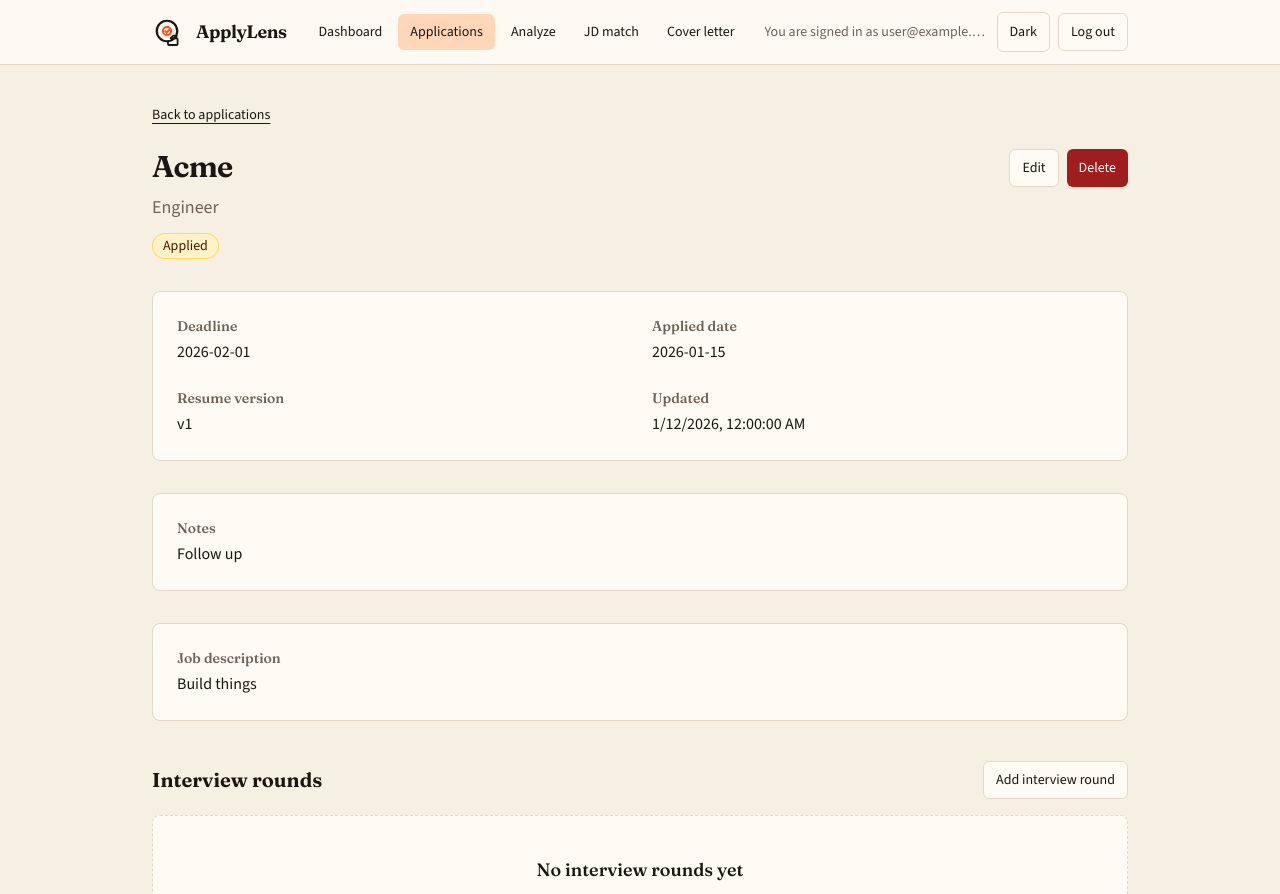
Test case: application create, edit, detail, and delete › deletes an application after confirmation and returns to the list
The image size is (1280, 894).
Expected: the heading "Acme" is shown, top-left (152, 149), bottom-right (232, 185)
Step 1. Click the button "Delete" → [1097, 168], box top-left (1067, 149), bottom-right (1128, 187)
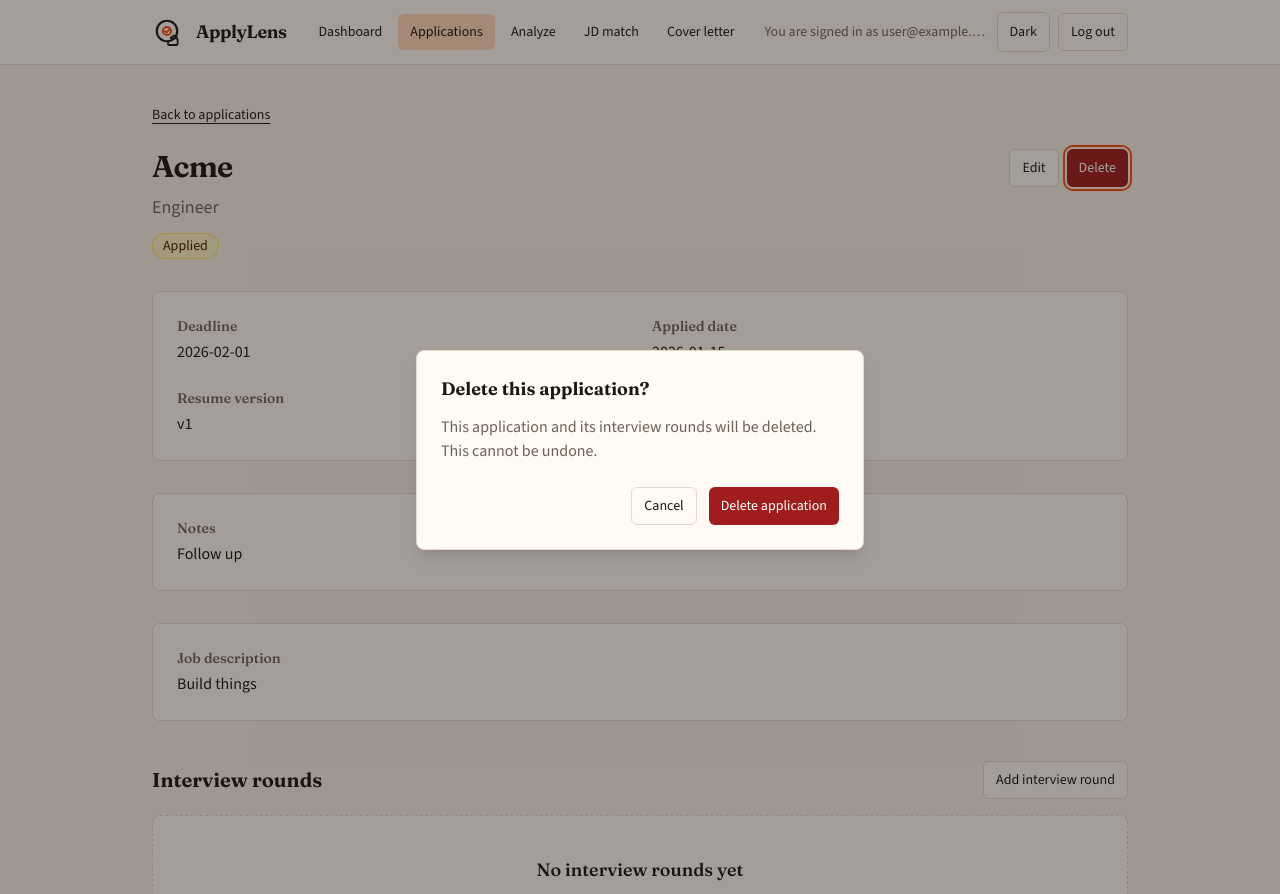
Step 2. Click the button "Delete application" → [774, 506], box top-left (709, 487), bottom-right (839, 525)
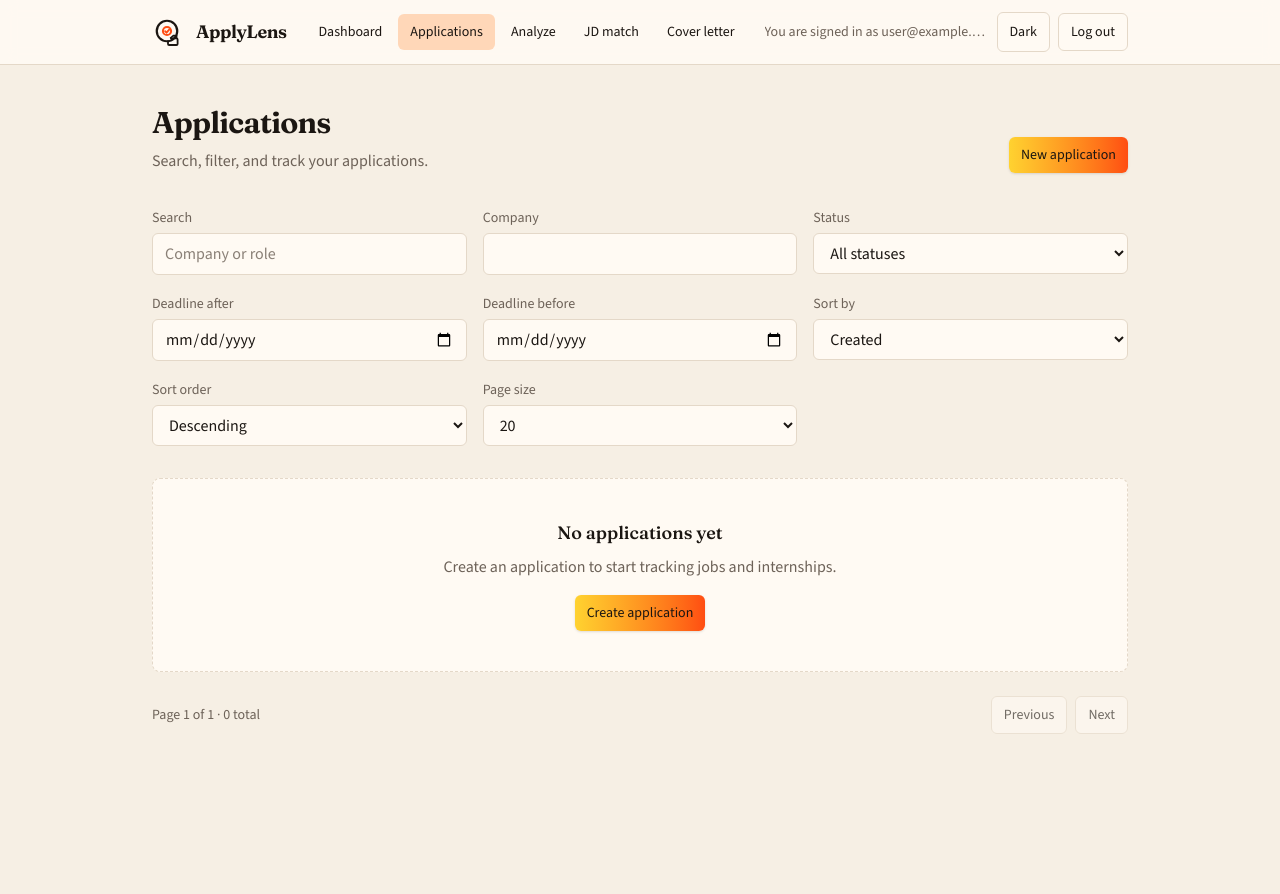
Result: the heading "No applications yet" is shown at top-left (557, 521), bottom-right (723, 544)
